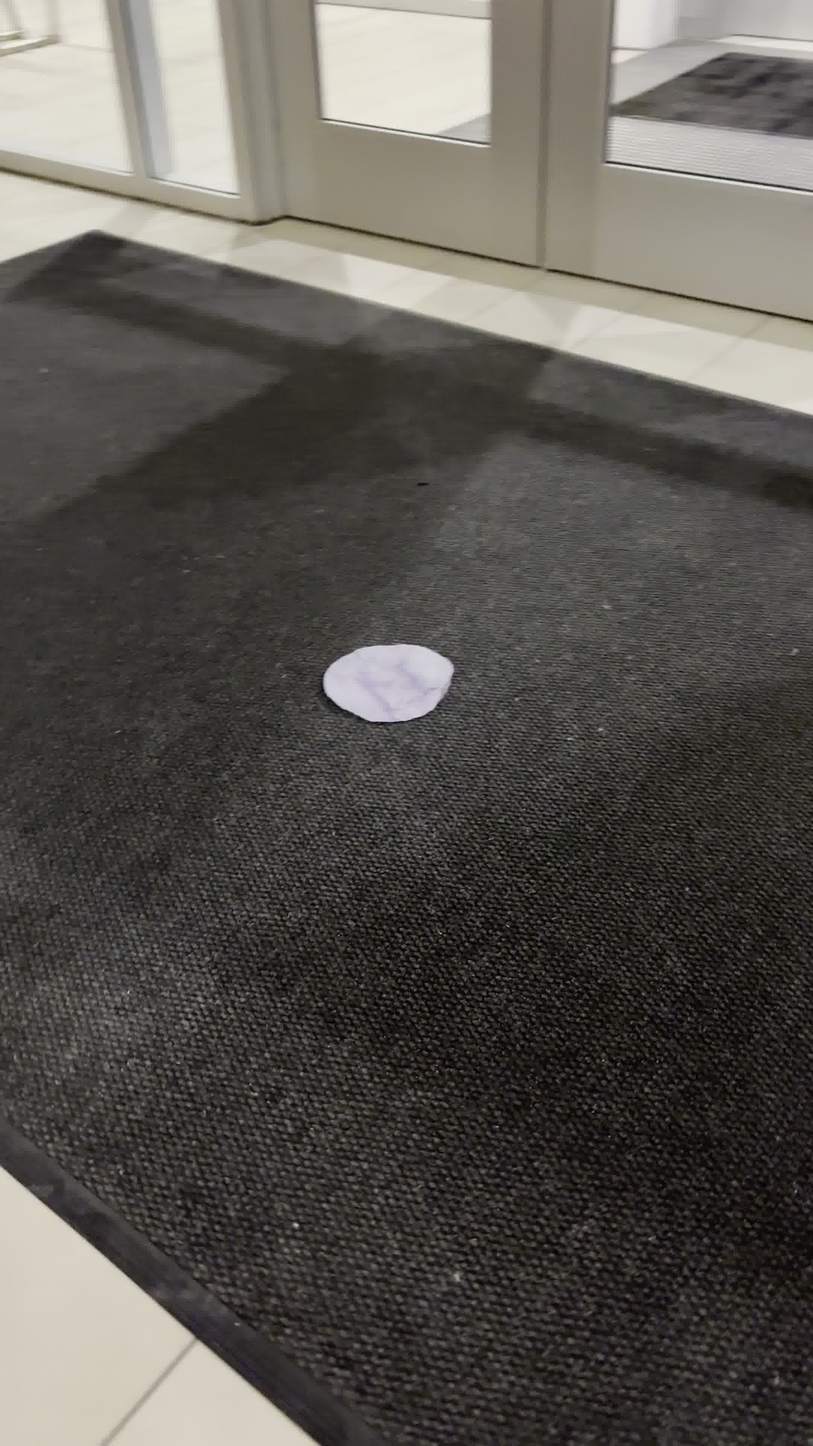Target: (323, 644, 454, 722)
